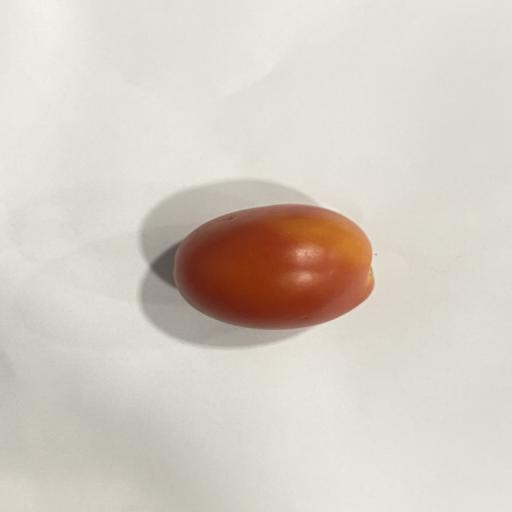ripe: (174, 204, 374, 329)
